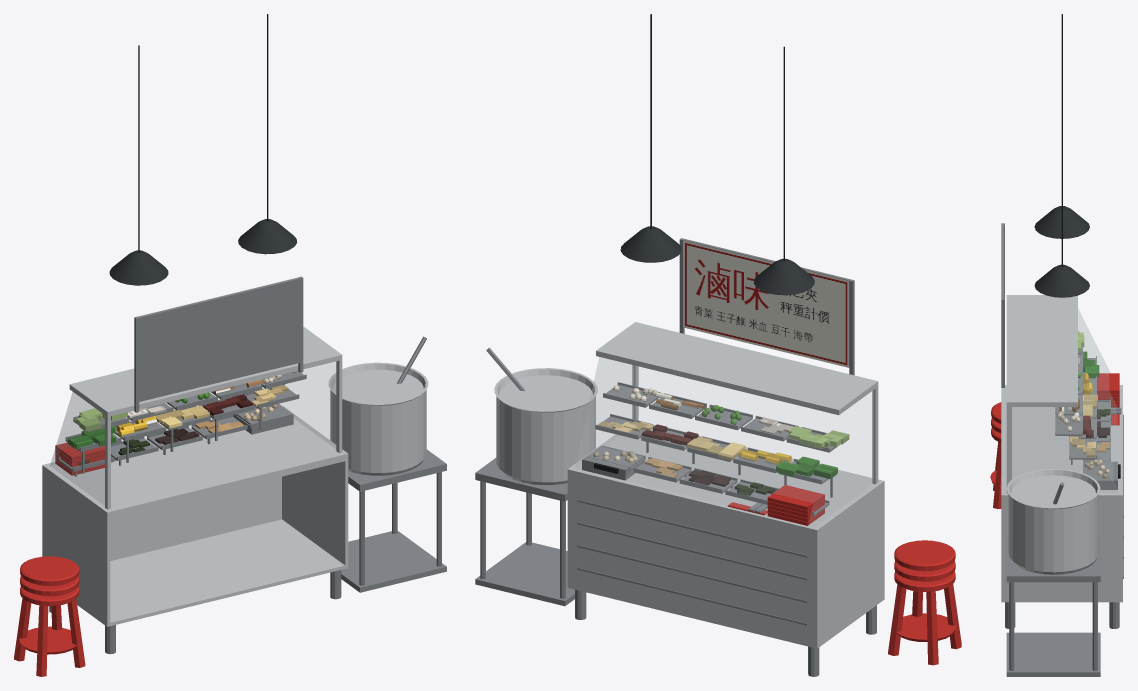
The model's file is luwei_stall_cart.glb.
3 views of the same model, side by side, from view 1: azimuth 30°, elevation 25°; view 2: azimuth 150°, elevation 25°; view 3: azimuth 270°, elevation 25° (orthographic). The views are drawn at different scales.
Parts seen in each view (by area): view 1: luwei_cart, luwei_cart_dark, luwei_glass, luwei_red, luwei_food, luwei_shade, luwei_wire; view 2: luwei_cart, luwei_glass, luwei_cart_dark, luwei_sign, luwei_red, luwei_food, luwei_shade, luwei_wire; view 3: luwei_cart, luwei_cart_dark, luwei_glass, luwei_shade, luwei_food, luwei_red, luwei_wire.
Boxes of the visible parts, x1,y1,x2,y2 form: luwei_cart: (42, 327, 428, 626); luwei_cart_dark: (49, 276, 446, 654); luwei_glass: (50, 362, 335, 505); luwei_red: (14, 442, 104, 676); luwei_food: (68, 371, 295, 465); luwei_shade: (109, 219, 297, 285); luwei_wire: (138, 14, 268, 252); luwei_cart: (494, 322, 884, 648); luwei_glass: (576, 357, 873, 526); luwei_cart_dark: (475, 238, 876, 676); luwei_sign: (683, 240, 849, 367); luwei_red: (727, 485, 961, 665); luwei_food: (593, 385, 849, 495); luwei_shade: (620, 226, 814, 295); luwei_wire: (650, 14, 784, 261); luwei_cart: (1001, 295, 1122, 602); luwei_cart_dark: (1001, 223, 1123, 676); luwei_glass: (1012, 308, 1117, 492); luwei_shade: (1034, 206, 1089, 297); luwei_food: (1057, 331, 1110, 478); luwei_red: (990, 373, 1119, 508); luwei_wire: (1061, 14, 1062, 266).
Bounding box in the file's own units: 2.65 × 3.4 × 0.769.
Materials: 10 (1 with a texture image).
